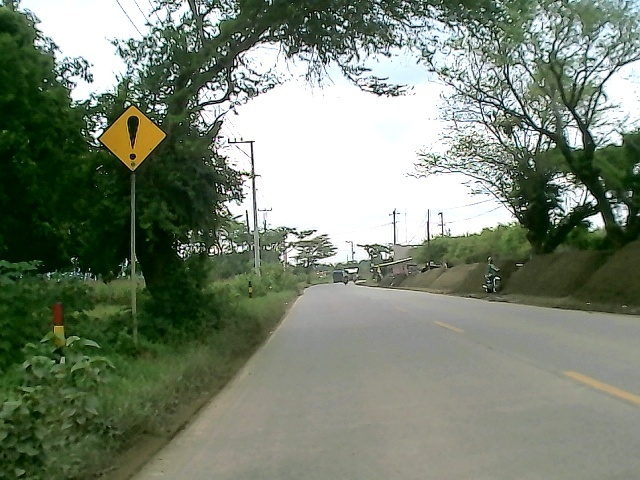Hati-hati: (94, 103, 172, 173)
